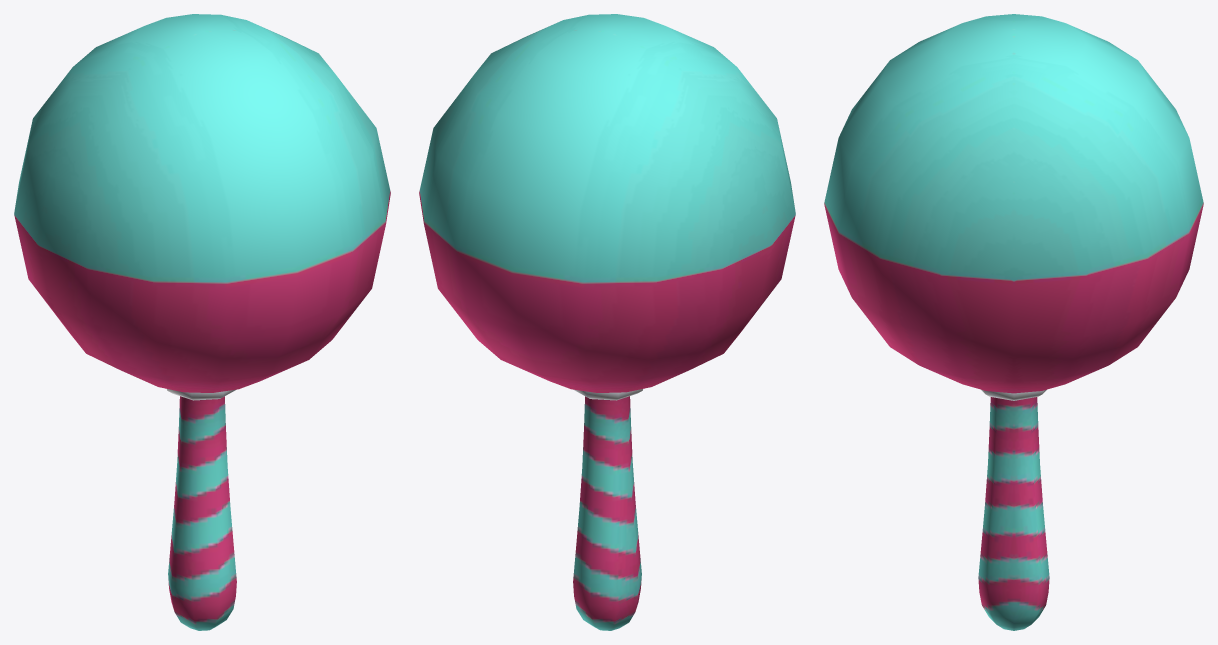
Rendered from Sonaja.obj.
The picture shows the model from 3 angles, left to right: view 1: azimuth 30°, elevation 25°; view 2: azimuth 150°, elevation 25°; view 3: azimuth 270°, elevation 25°; orthographic projection.
Visible parts, largest first — view 1: polySurface6; view 2: polySurface6; view 3: polySurface6.
Boxes of the visible parts, bbox=[...] form: polySurface6: bbox=[14, 14, 390, 630]; polySurface6: bbox=[419, 14, 795, 630]; polySurface6: bbox=[824, 14, 1203, 630].
Size of the model in its own units: 0.4758 by 0.8246 by 0.4758.
1 material, 1 textured.
